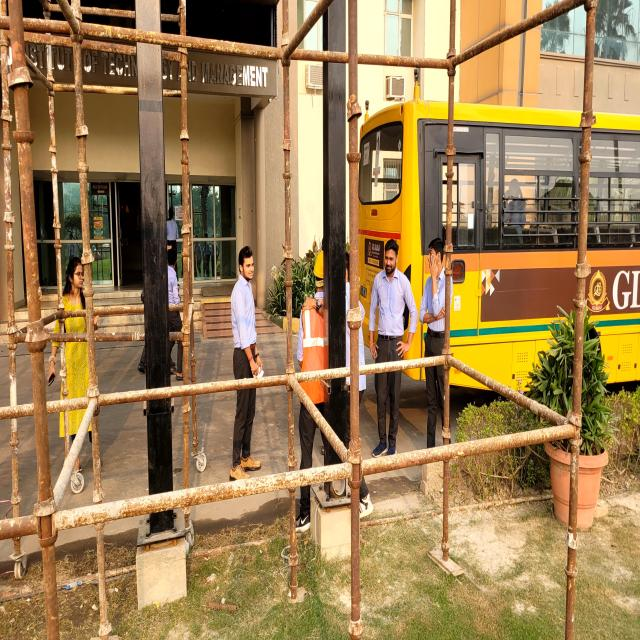safe: (296, 250, 325, 530)
unsafe: (48, 256, 103, 479), (370, 241, 419, 456), (230, 246, 264, 480), (420, 238, 451, 448), (168, 248, 185, 384), (166, 205, 178, 283)
